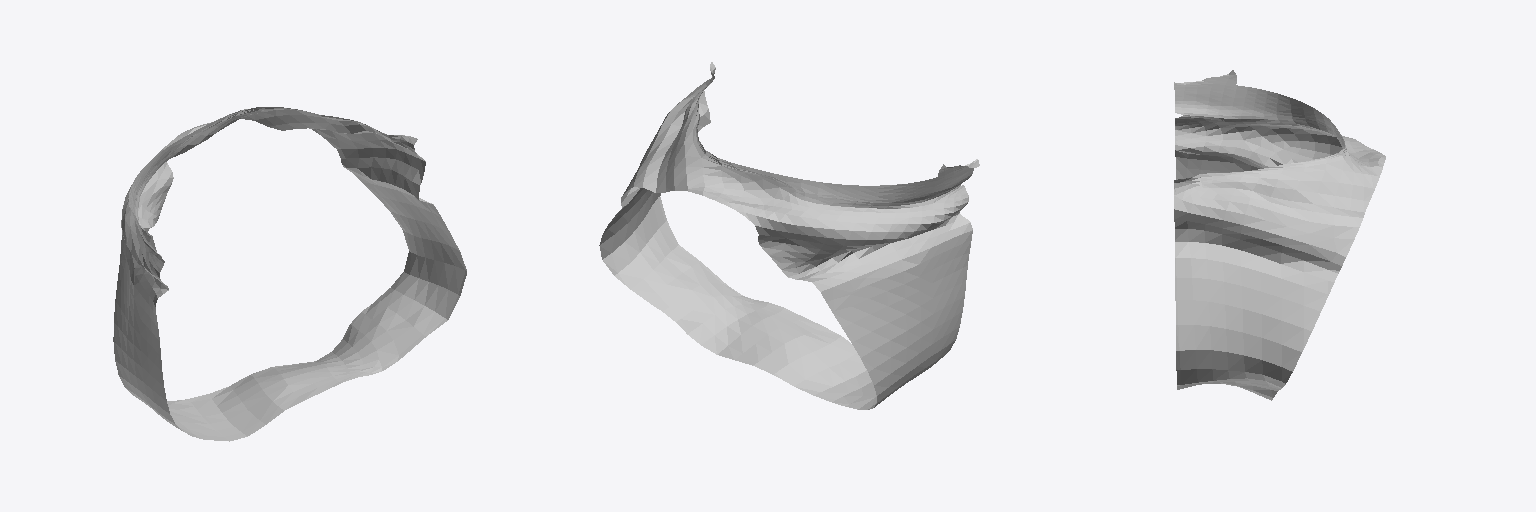
Rendered from hanche_gauche.obj.
The picture shows the model from 3 angles: view 1: azimuth 30°, elevation 25°; view 2: azimuth 150°, elevation 25°; view 3: azimuth 270°, elevation 25°; orthographic projection.
Parts seen in each view (by area): view 1: 15548_French_Horseman_v1.004_15548_French_Horseman_v1.049; view 2: 15548_French_Horseman_v1.004_15548_French_Horseman_v1.049; view 3: 15548_French_Horseman_v1.004_15548_French_Horseman_v1.049.
Part boxes in pixels (x1,y1,x2,y2): 15548_French_Horseman_v1.004_15548_French_Horseman_v1.049: (113, 107, 466, 441); 15548_French_Horseman_v1.004_15548_French_Horseman_v1.049: (599, 62, 979, 409); 15548_French_Horseman_v1.004_15548_French_Horseman_v1.049: (1174, 70, 1385, 400).
Size of the model in its own units: 1.39 by 1.08 by 0.803.